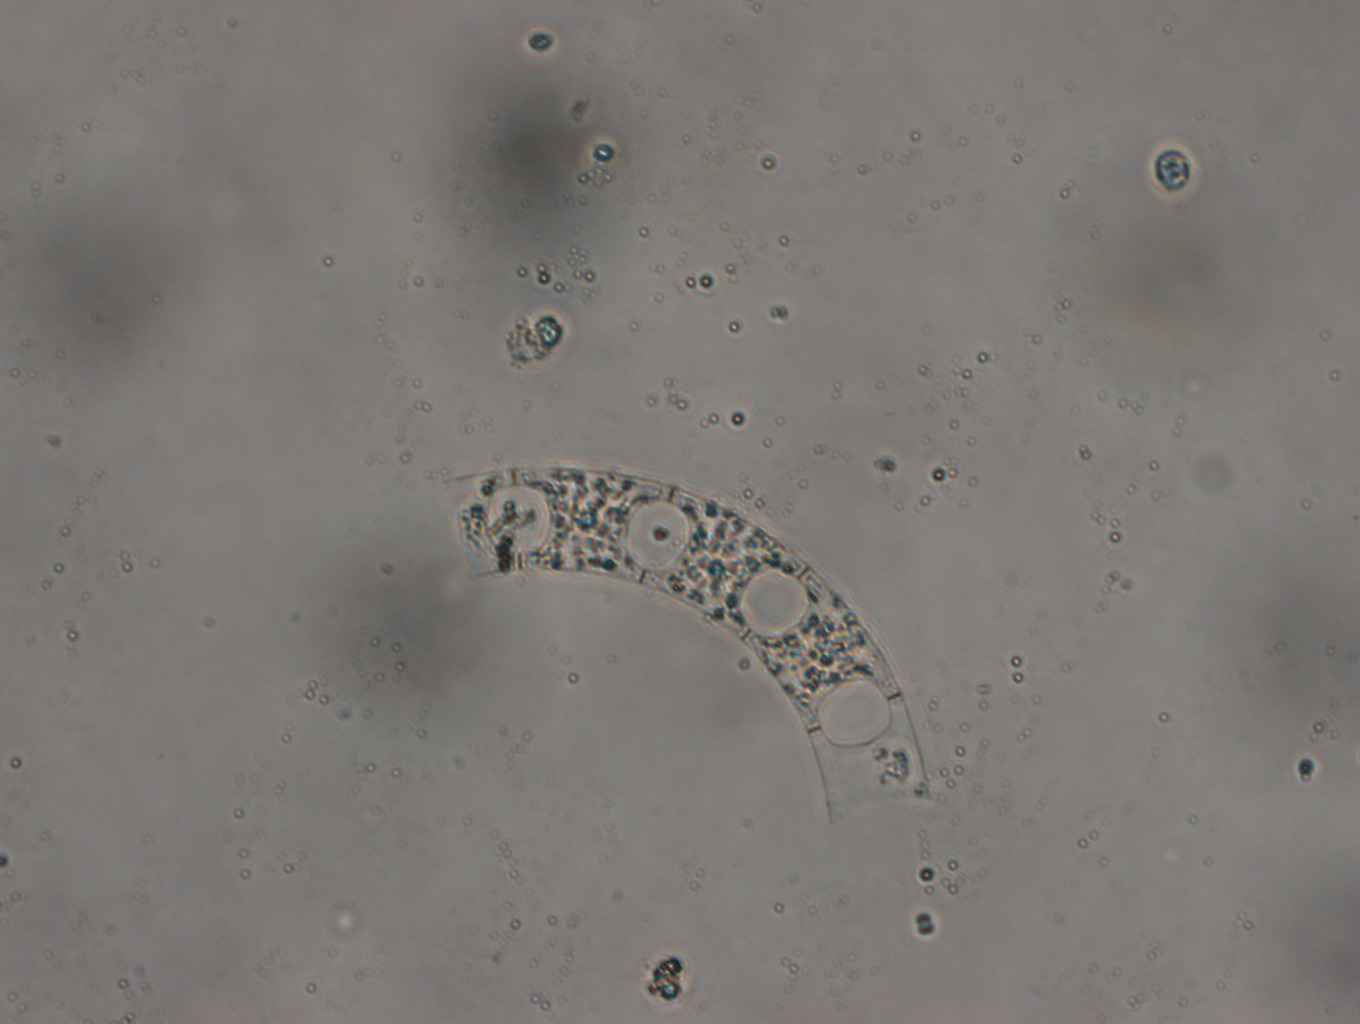eucampia: (443, 463, 932, 833)
